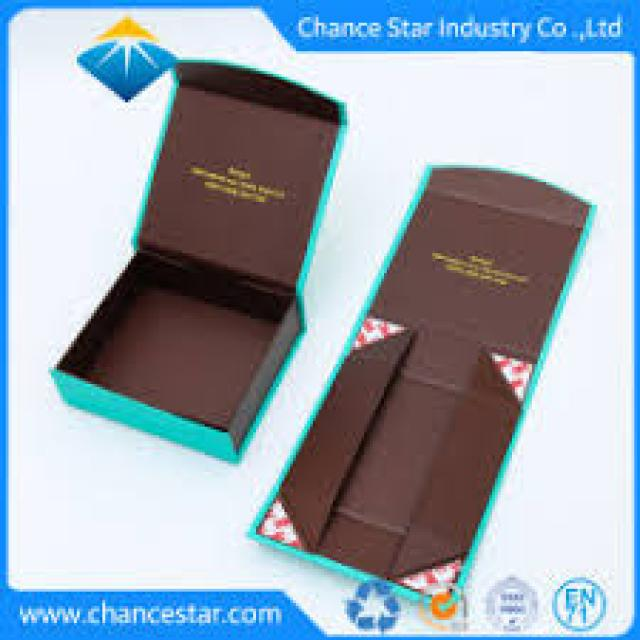cardboard: (242, 159, 592, 603), (40, 54, 344, 464)
